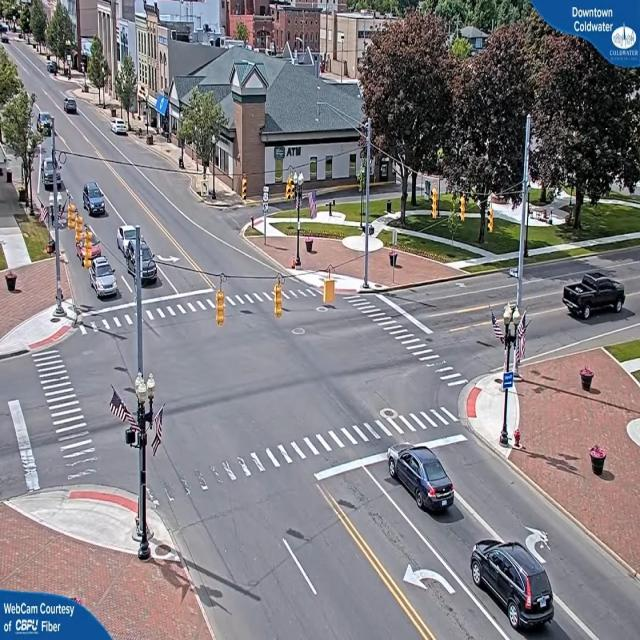car: (472, 539, 556, 634), (387, 443, 458, 515), (565, 273, 627, 321), (90, 259, 120, 299), (83, 180, 108, 217), (112, 120, 129, 136)
